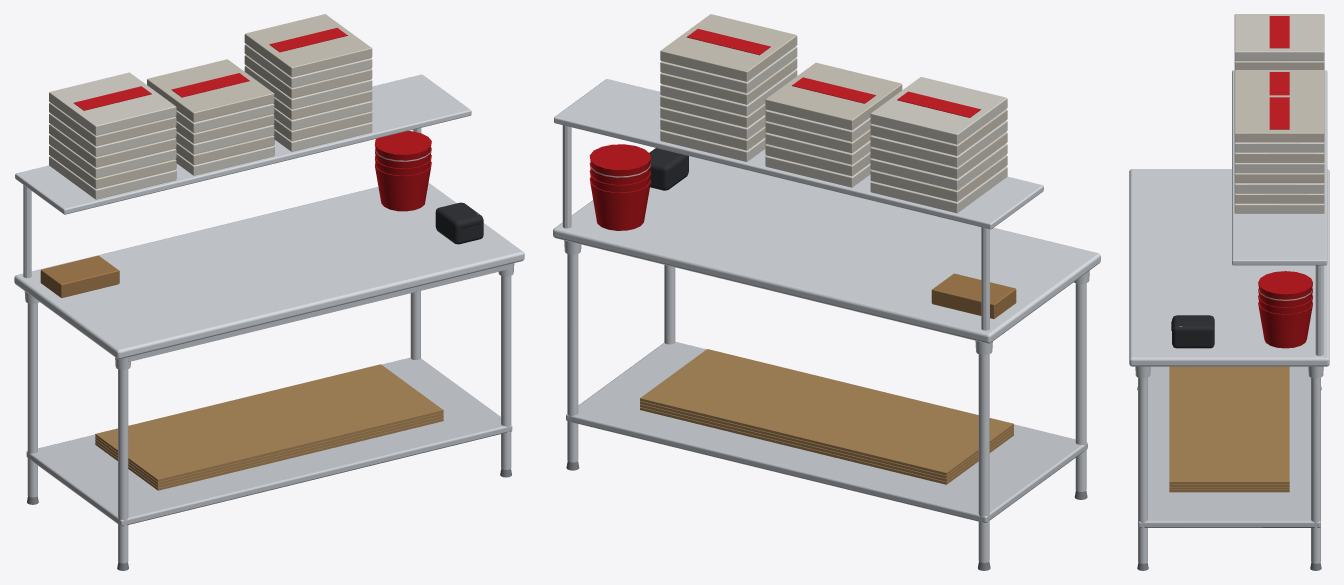
Rendered from packaging-table.glb.
3 views of the same model, side by side, from view 1: azimuth 30°, elevation 25°; view 2: azimuth 150°, elevation 25°; view 3: azimuth 270°, elevation 25° (orthographic). The views are drawn at different scales.
Parts seen in each view (by area): view 1: BODY, PROPS; view 2: BODY, PROPS; view 3: BODY, PROPS.
Part boxes in pixels (x1=…): BODY: x1=14, y1=74, x2=524, y2=570; PROPS: x1=40, y1=14, x2=443, y2=490; BODY: x1=553, y1=79, x2=1100, y2=570; PROPS: x1=589, y1=14, x2=1016, y2=484; BODY: x1=1129, y1=70, x2=1329, y2=570; PROPS: x1=1169, y1=14, x2=1324, y2=492.
Size of the model in its own units: 1.8 by 1.74 by 0.7999.
